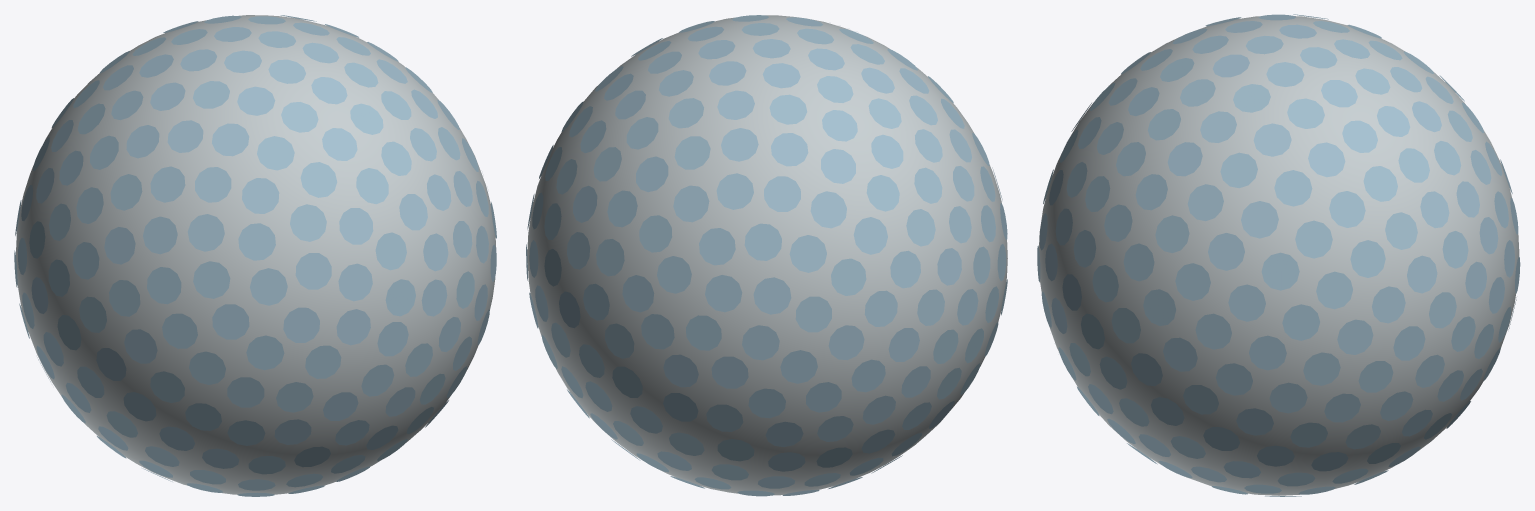
Rendered from lares-2.glb.
3 views of the same model, side by side, from view 1: azimuth 30°, elevation 25°; view 2: azimuth 150°, elevation 25°; view 3: azimuth 270°, elevation 25° (orthographic).
Visible parts, largest first — view 1: Spherical body, Laser retroreflectors; view 2: Spherical body, Laser retroreflectors; view 3: Spherical body, Laser retroreflectors.
Boxes of the visible parts, x1,y1,x2,y2 form: Spherical body: (16,15,496,494); Laser retroreflectors: (14,15,496,496); Spherical body: (527,15,1007,495); Laser retroreflectors: (526,15,1007,496); Spherical body: (1039,16,1519,495); Laser retroreflectors: (1037,14,1520,496).
Size of the model in its own units: 0.426 by 0.426 by 0.4262.
